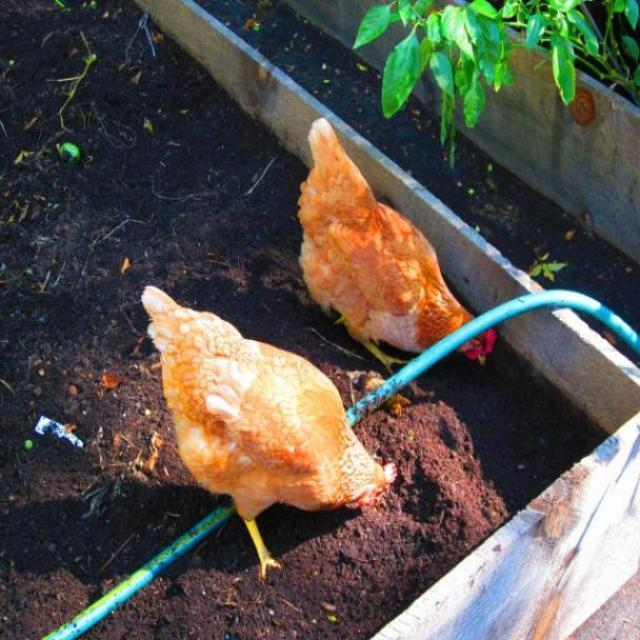Chicken: (140, 281, 398, 568), (297, 115, 492, 393)
